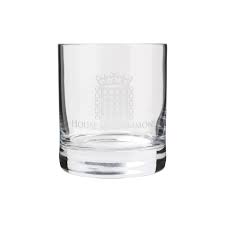glass: (54, 39, 173, 181)
